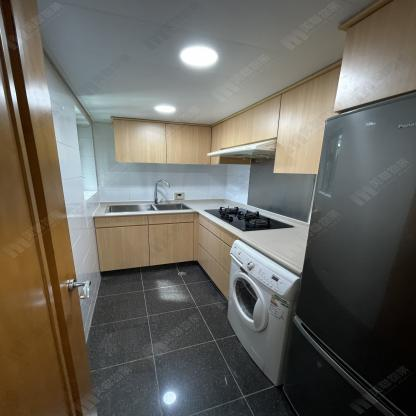Cupboard: (112, 64, 337, 176), (97, 211, 234, 301), (111, 118, 213, 166)
Exhaust Hood: (207, 139, 276, 165)
Faucet: (152, 177, 170, 204)
Fridge: (281, 89, 414, 416), (287, 94, 415, 414), (207, 140, 276, 162)
Sink: (100, 201, 199, 215), (105, 199, 190, 214)
Stove: (199, 205, 308, 237), (201, 204, 295, 232)
Washing Machine: (225, 238, 302, 388)
